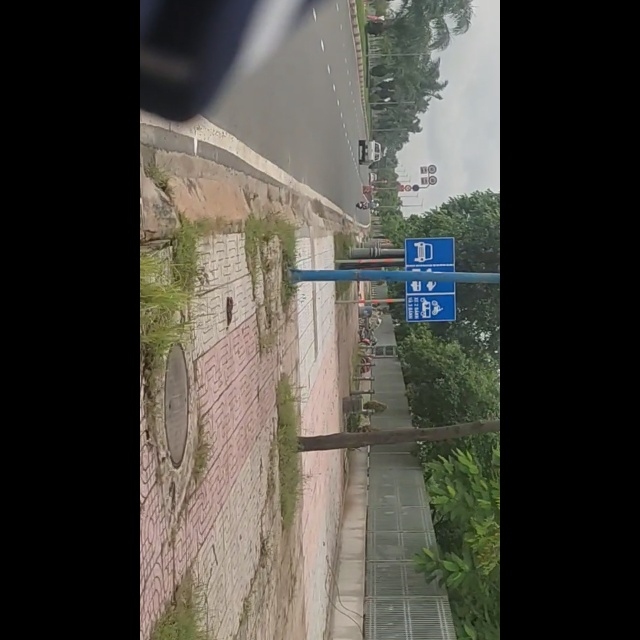bien_chi_dan: (467, 237, 567, 322)
